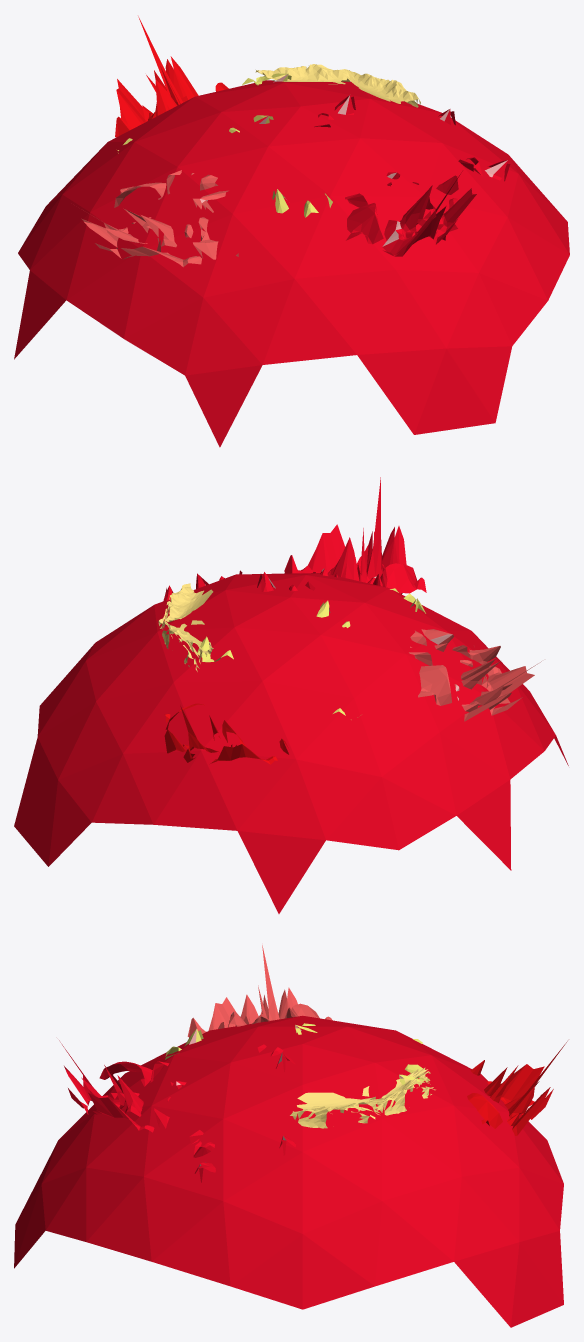
The model's file is LandscapeAnfora.glb.
The picture shows the model from 3 angles, top to bottom: view 1: azimuth 30°, elevation 25°; view 2: azimuth 150°, elevation 25°; view 3: azimuth 270°, elevation 25°; orthographic projection. The views are drawn at different scales.
Visible parts, largest first — view 1: Icosphere.001, Plane.001, Plane.002, Plane.005, Plane.003, Plane.004, Plane.008; view 2: Icosphere.001, Plane.001, Plane.002, Plane.005, Plane.003, Plane.004; view 3: Icosphere.001, Plane.005, Plane.001, Plane.002, Plane.003, Plane.004, Plane.008.
Part boxes in pixels (box(x1,y1,x2,y2)): Icosphere.001: box(14, 80, 569, 447); Plane.001: box(345, 171, 476, 256); Plane.002: box(81, 170, 238, 267); Plane.005: box(115, 16, 228, 137); Plane.003: box(345, 69, 420, 107); Plane.004: box(255, 64, 350, 84); Plane.008: box(458, 157, 510, 181); Icosphere.001: box(14, 573, 568, 913); Plane.001: box(284, 477, 426, 594); Plane.002: box(409, 629, 541, 721); Plane.005: box(164, 703, 289, 764); Plane.003: box(158, 583, 213, 629); Plane.004: box(162, 620, 213, 671); Icosphere.001: box(14, 1015, 563, 1327); Plane.005: box(467, 1041, 567, 1135); Plane.001: box(59, 1040, 186, 1132); Plane.002: box(187, 945, 332, 1037); Plane.003: box(290, 1092, 385, 1128); Plane.004: box(362, 1067, 435, 1115); Plane.008: box(189, 1130, 215, 1182).
Bounding box in the file's own units: 12.68 × 5.77 × 12.67.
